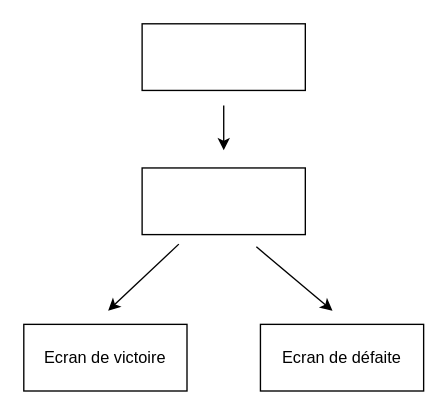
Image size: 447x415. Some labels were removed from this diagram. The centre of each missing label's shape, as x and y in pixels:
Ecran d'accueil: pixel 223 56
Jeu: pixel 223 201
